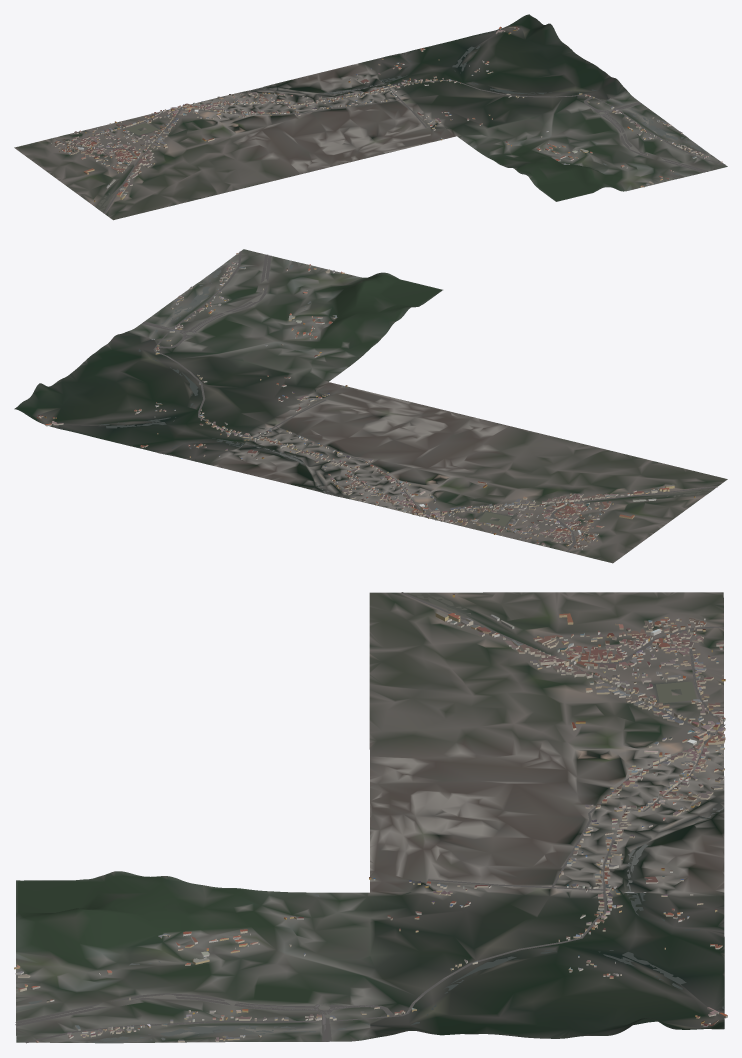
3 renders of one model, top to bottom at view 1: azimuth 30°, elevation 25°; view 2: azimuth 150°, elevation 25°; view 3: azimuth 270°, elevation 25°, orthographic. The views are drawn at different scales.
Visible parts, largest first — view 1: ground, buildings, roads, water; view 2: ground, buildings, roads, water; view 3: ground, buildings, roads, water.
Boxes of the visible parts, x1,y1,x2,y2 form: ground: (14, 14, 727, 220); buildings: (51, 26, 722, 201); roads: (54, 79, 725, 213); water: (97, 30, 705, 211); ground: (14, 249, 727, 563); buildings: (36, 253, 695, 549); roads: (142, 251, 717, 551); water: (54, 265, 713, 531); ground: (16, 592, 724, 1043); buildings: (14, 594, 727, 1042); roads: (15, 592, 725, 1043); water: (28, 592, 724, 1042).
Bounding box in the file's own units: 4224 × 121 × 2825.
